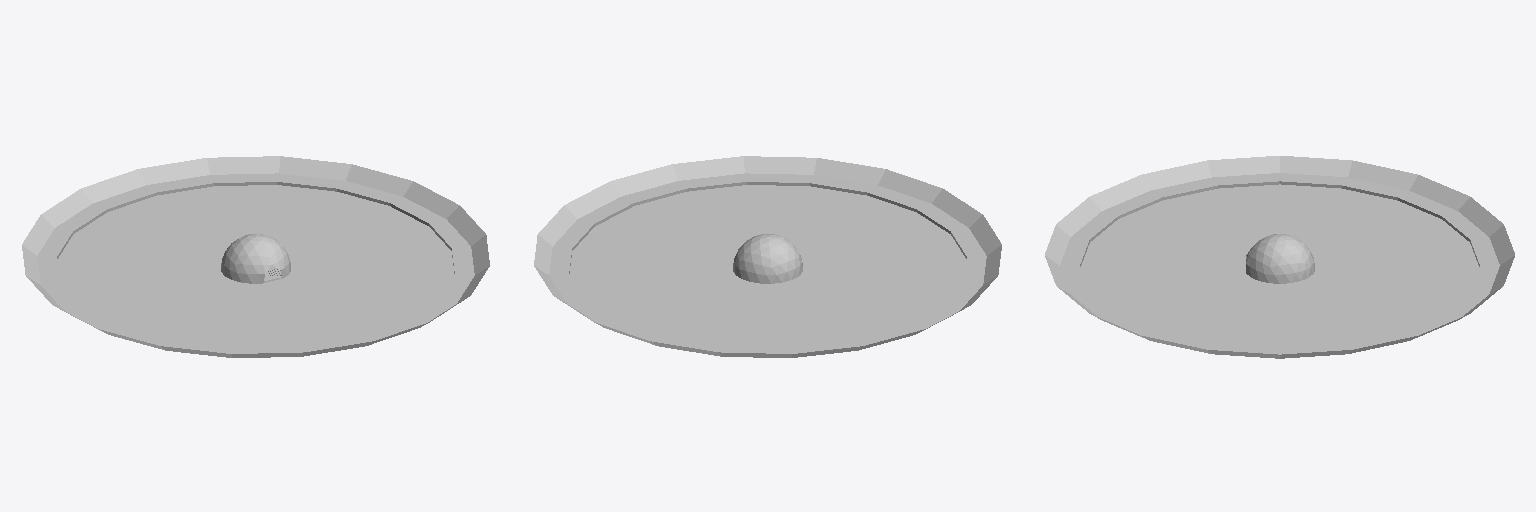
The model's file is ambient.obj.
The picture shows the model from 3 angles: view 1: azimuth 30°, elevation 25°; view 2: azimuth 150°, elevation 25°; view 3: azimuth 270°, elevation 25°; orthographic projection.
Visible parts, largest first — view 1: Icosphere; view 2: Icosphere; view 3: Icosphere.
Part boxes in pixels (left/top/right/bottom): Icosphere: left=22, top=156, right=489, bottom=357; Icosphere: left=534, top=156, right=1001, bottom=357; Icosphere: left=1045, top=156, right=1514, bottom=358.
Size of the model in its own units: 350 by 31.5 by 350.